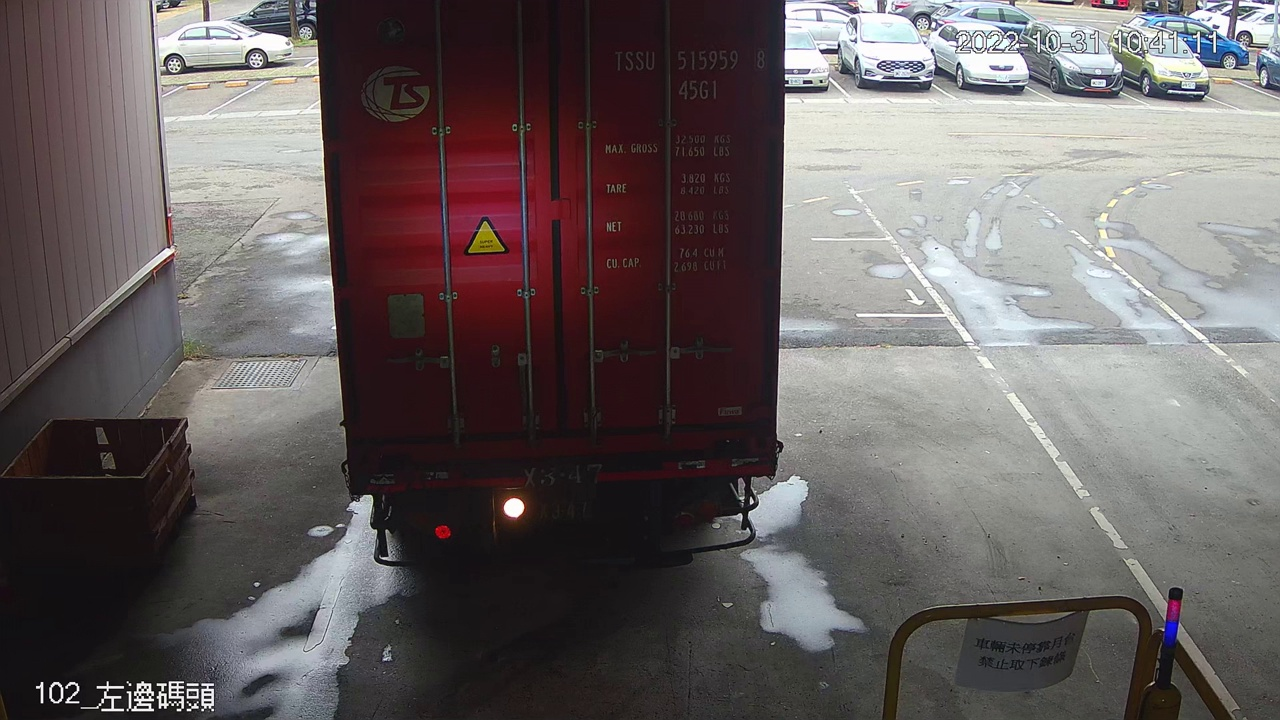container: (605, 41, 775, 106)
